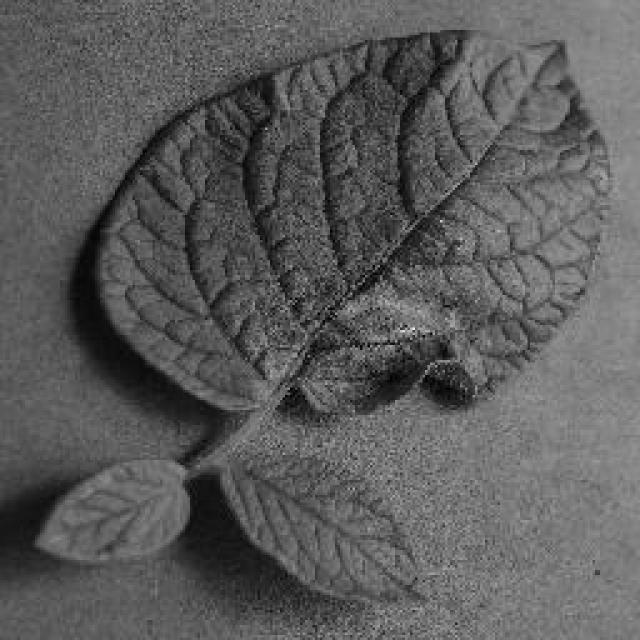Potato: (33, 25, 615, 605)
